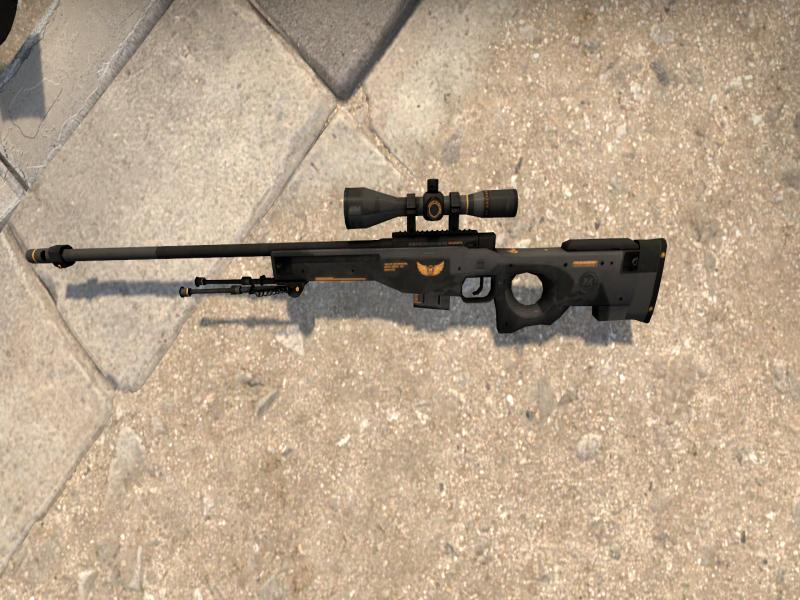AWP: (25, 178, 669, 333)
